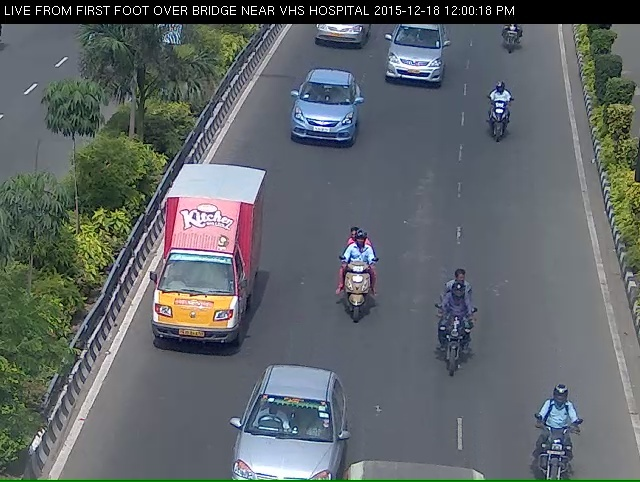Car: (149, 178, 250, 375), (283, 71, 355, 159), (383, 21, 445, 98), (298, 22, 368, 59)
Person: (424, 293, 477, 408), (329, 245, 384, 350), (485, 87, 519, 153), (495, 22, 532, 64)
